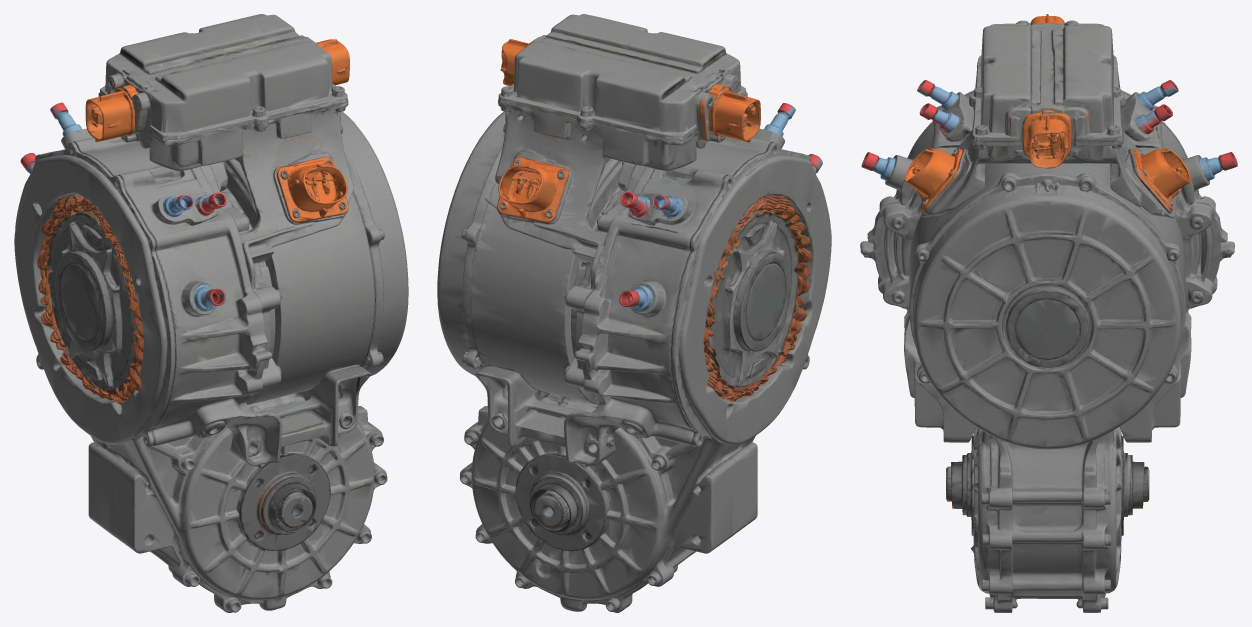
File: drivetrain-hq.glb
3 renders of one model, left to right at view 1: azimuth 30°, elevation 25°; view 2: azimuth 150°, elevation 25°; view 3: azimuth 270°, elevation 25°, orthographic. The views are drawn at different scales.
Size of the model in its own units: 1.01 by 1.9 by 1.23.
1 material, 1 textured.
